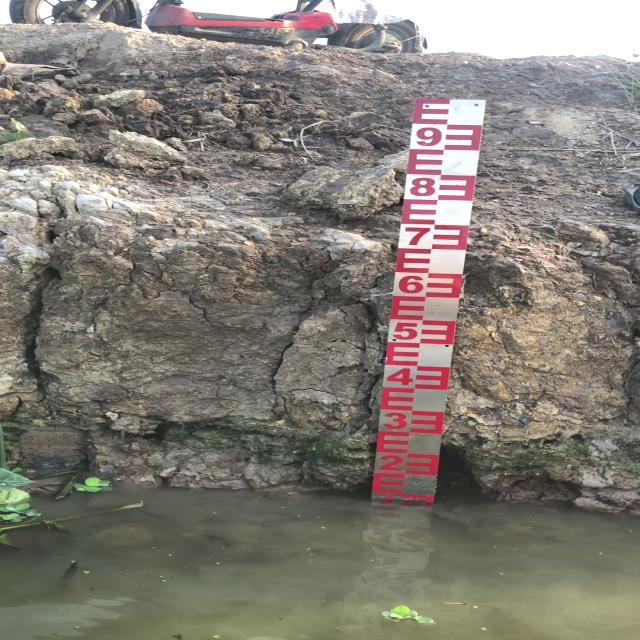ruler: (360, 85, 506, 521)
value: (410, 123, 446, 153), (406, 171, 440, 201), (399, 224, 435, 252), (392, 270, 427, 298), (388, 319, 421, 347), (379, 407, 411, 434), (382, 364, 415, 390), (374, 451, 408, 476)
